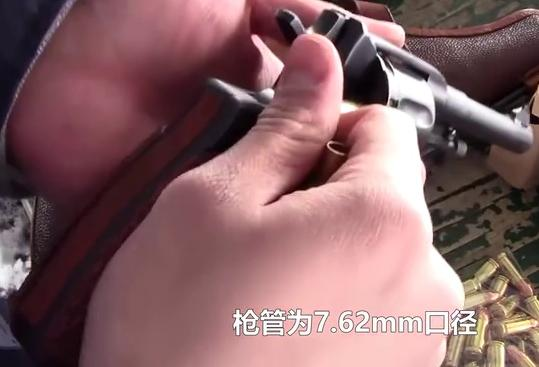gun: (1, 0, 539, 367)
